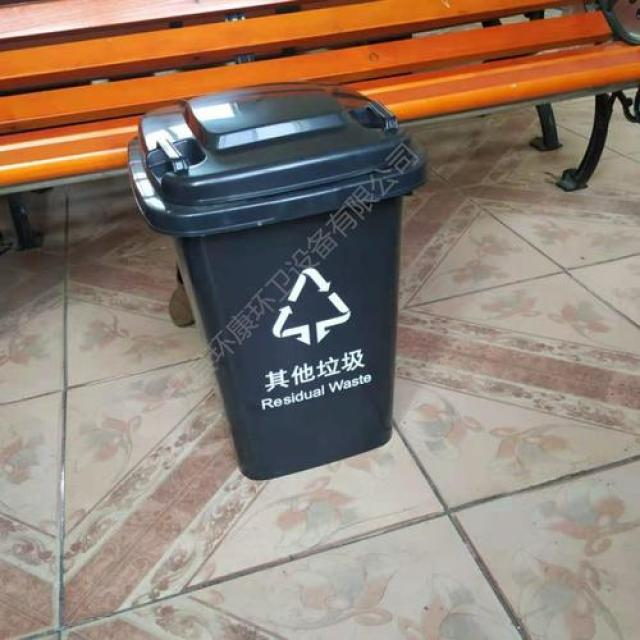garbage_bin: (125, 79, 425, 480)
